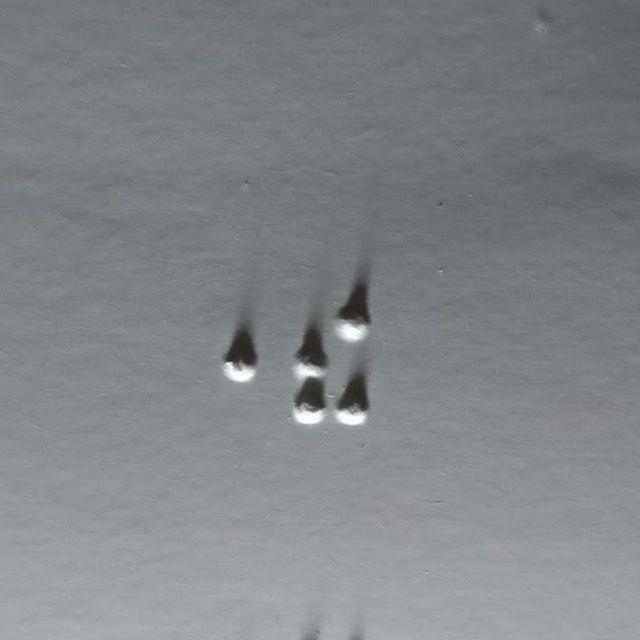anggi: (296, 302, 369, 427)
dot_5: (187, 302, 260, 427)
